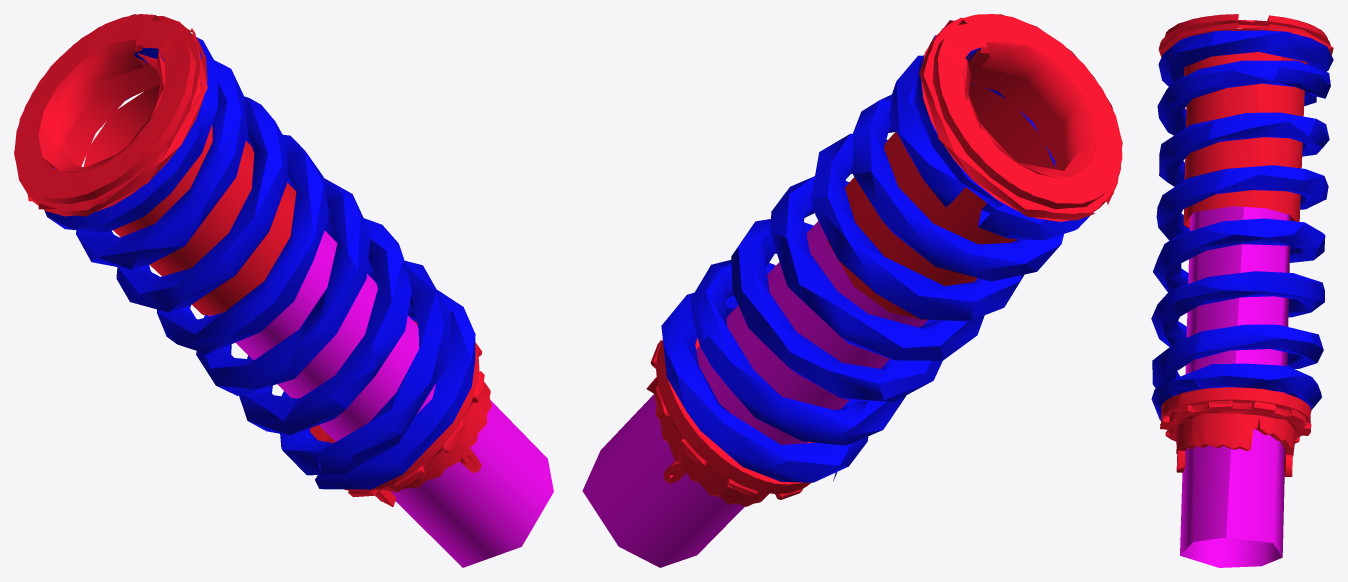
Rendered from REAR_SUSPENSION.fbx.
3 renders of one model, left to right at view 1: azimuth 30°, elevation 25°; view 2: azimuth 150°, elevation 25°; view 3: azimuth 270°, elevation 25°, orthographic. The views are drawn at different scales.
Visible parts, largest first — view 1: polySurface12167, polySurface12166, polySurface12159, polySurface12165, polySurface12168, polySurface12157, polySurface12163, polySurface12160, polySurface12158, polySurface12164; view 2: polySurface12167, polySurface12166, polySurface12159, polySurface12165, polySurface12168, polySurface12157, polySurface12164, polySurface12163, polySurface12158, polySurface12160; view 3: polySurface12167, polySurface12166, polySurface12165, polySurface12163, polySurface12168, polySurface12164, polySurface12158, polySurface12157, polySurface12159, polySurface12160.
Boxes of the visible parts, x1,y1,x2,y2 form: polySurface12167: [76, 60, 475, 489]; polySurface12166: [208, 230, 553, 567]; polySurface12159: [14, 14, 195, 204]; polySurface12165: [83, 84, 296, 314]; polySurface12168: [44, 37, 217, 232]; polySurface12157: [64, 53, 164, 173]; polySurface12163: [325, 342, 491, 506]; polySurface12160: [17, 16, 200, 209]; polySurface12158: [27, 28, 207, 216]; polySurface12164: [310, 320, 479, 491]; polySurface12167: [661, 55, 1063, 482]; polySurface12166: [582, 221, 928, 567]; polySurface12159: [932, 14, 1122, 209]; polySurface12165: [827, 83, 1054, 320]; polySurface12168: [913, 35, 1093, 240]; polySurface12157: [959, 49, 1067, 208]; polySurface12164: [656, 340, 812, 494]; polySurface12163: [646, 338, 810, 506]; polySurface12158: [919, 20, 1113, 221]; polySurface12160: [928, 15, 1120, 213]; polySurface12167: [1151, 60, 1330, 420]; polySurface12166: [1180, 206, 1290, 567]; polySurface12165: [1183, 83, 1304, 228]; polySurface12163: [1160, 400, 1311, 458]; polySurface12168: [1158, 30, 1333, 106]; polySurface12164: [1161, 387, 1311, 429]; polySurface12158: [1158, 22, 1333, 57]; polySurface12157: [1184, 52, 1307, 92]; polySurface12159: [1165, 14, 1327, 42]; polySurface12160: [1159, 20, 1330, 50].
Size of the model in its own units: 52.17 by 59.28 by 21.63.
